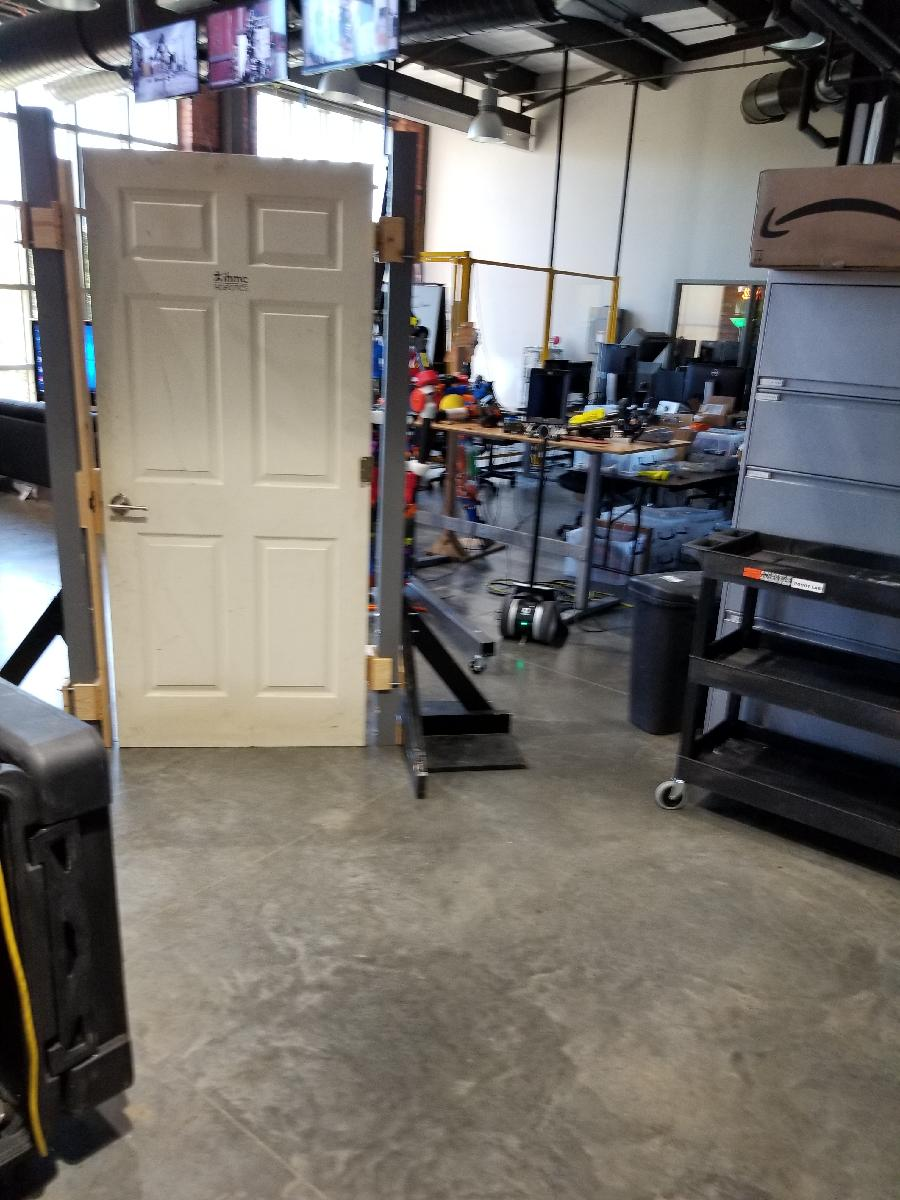door: (80, 144, 377, 757)
doorHandle: (103, 493, 149, 524)
